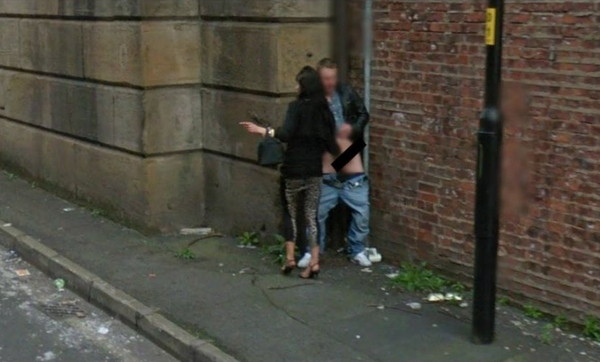people: (311, 59, 372, 269), (275, 67, 334, 278)
